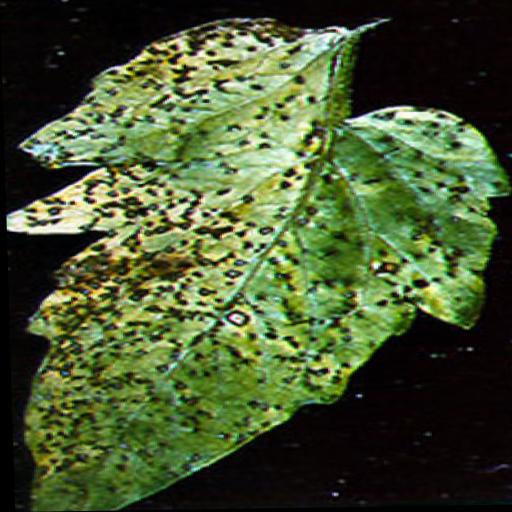Septoria: (0, 3, 512, 512)
